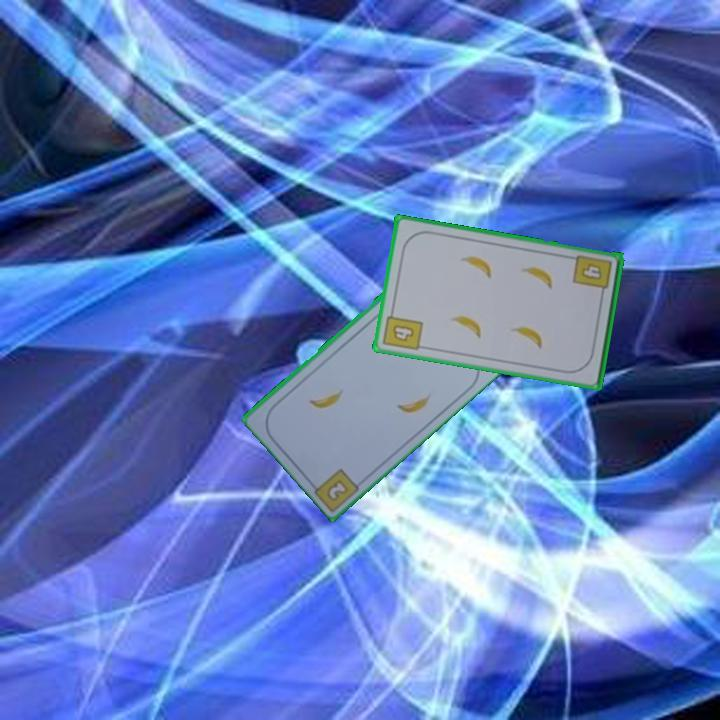2b: (325, 478, 349, 502)
4b: (380, 305, 426, 354), (577, 261, 603, 281)
